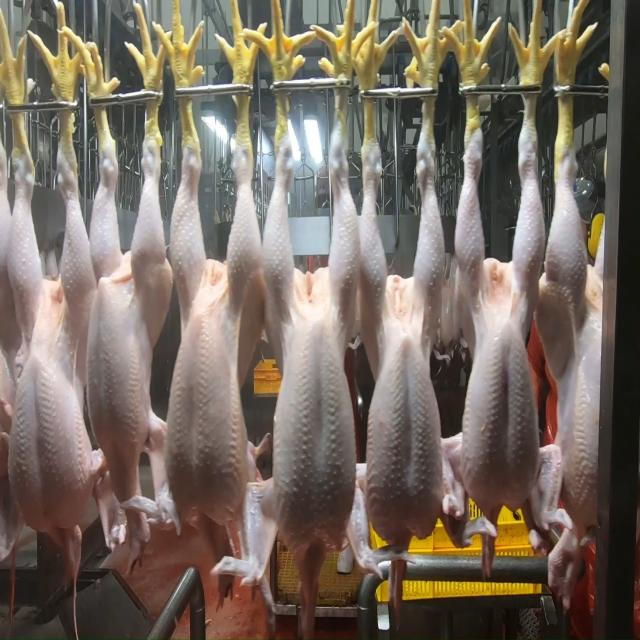chicken: (267, 120, 362, 555), (360, 126, 452, 544), (456, 120, 549, 496), (166, 139, 257, 519), (6, 150, 94, 540), (84, 138, 176, 462), (540, 142, 607, 519)
